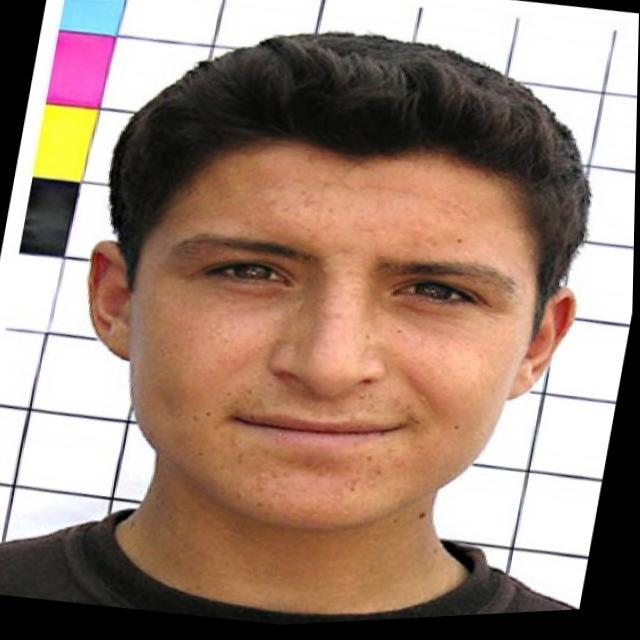Nonhelmet: (74, 37, 590, 537)
